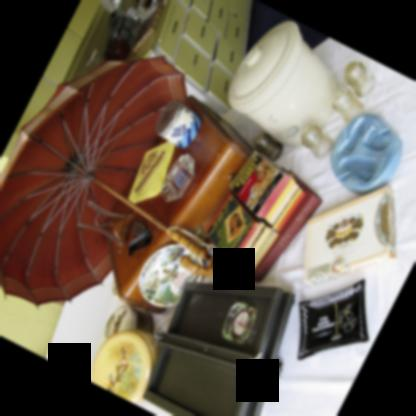suitcase: (100, 94, 256, 315)
